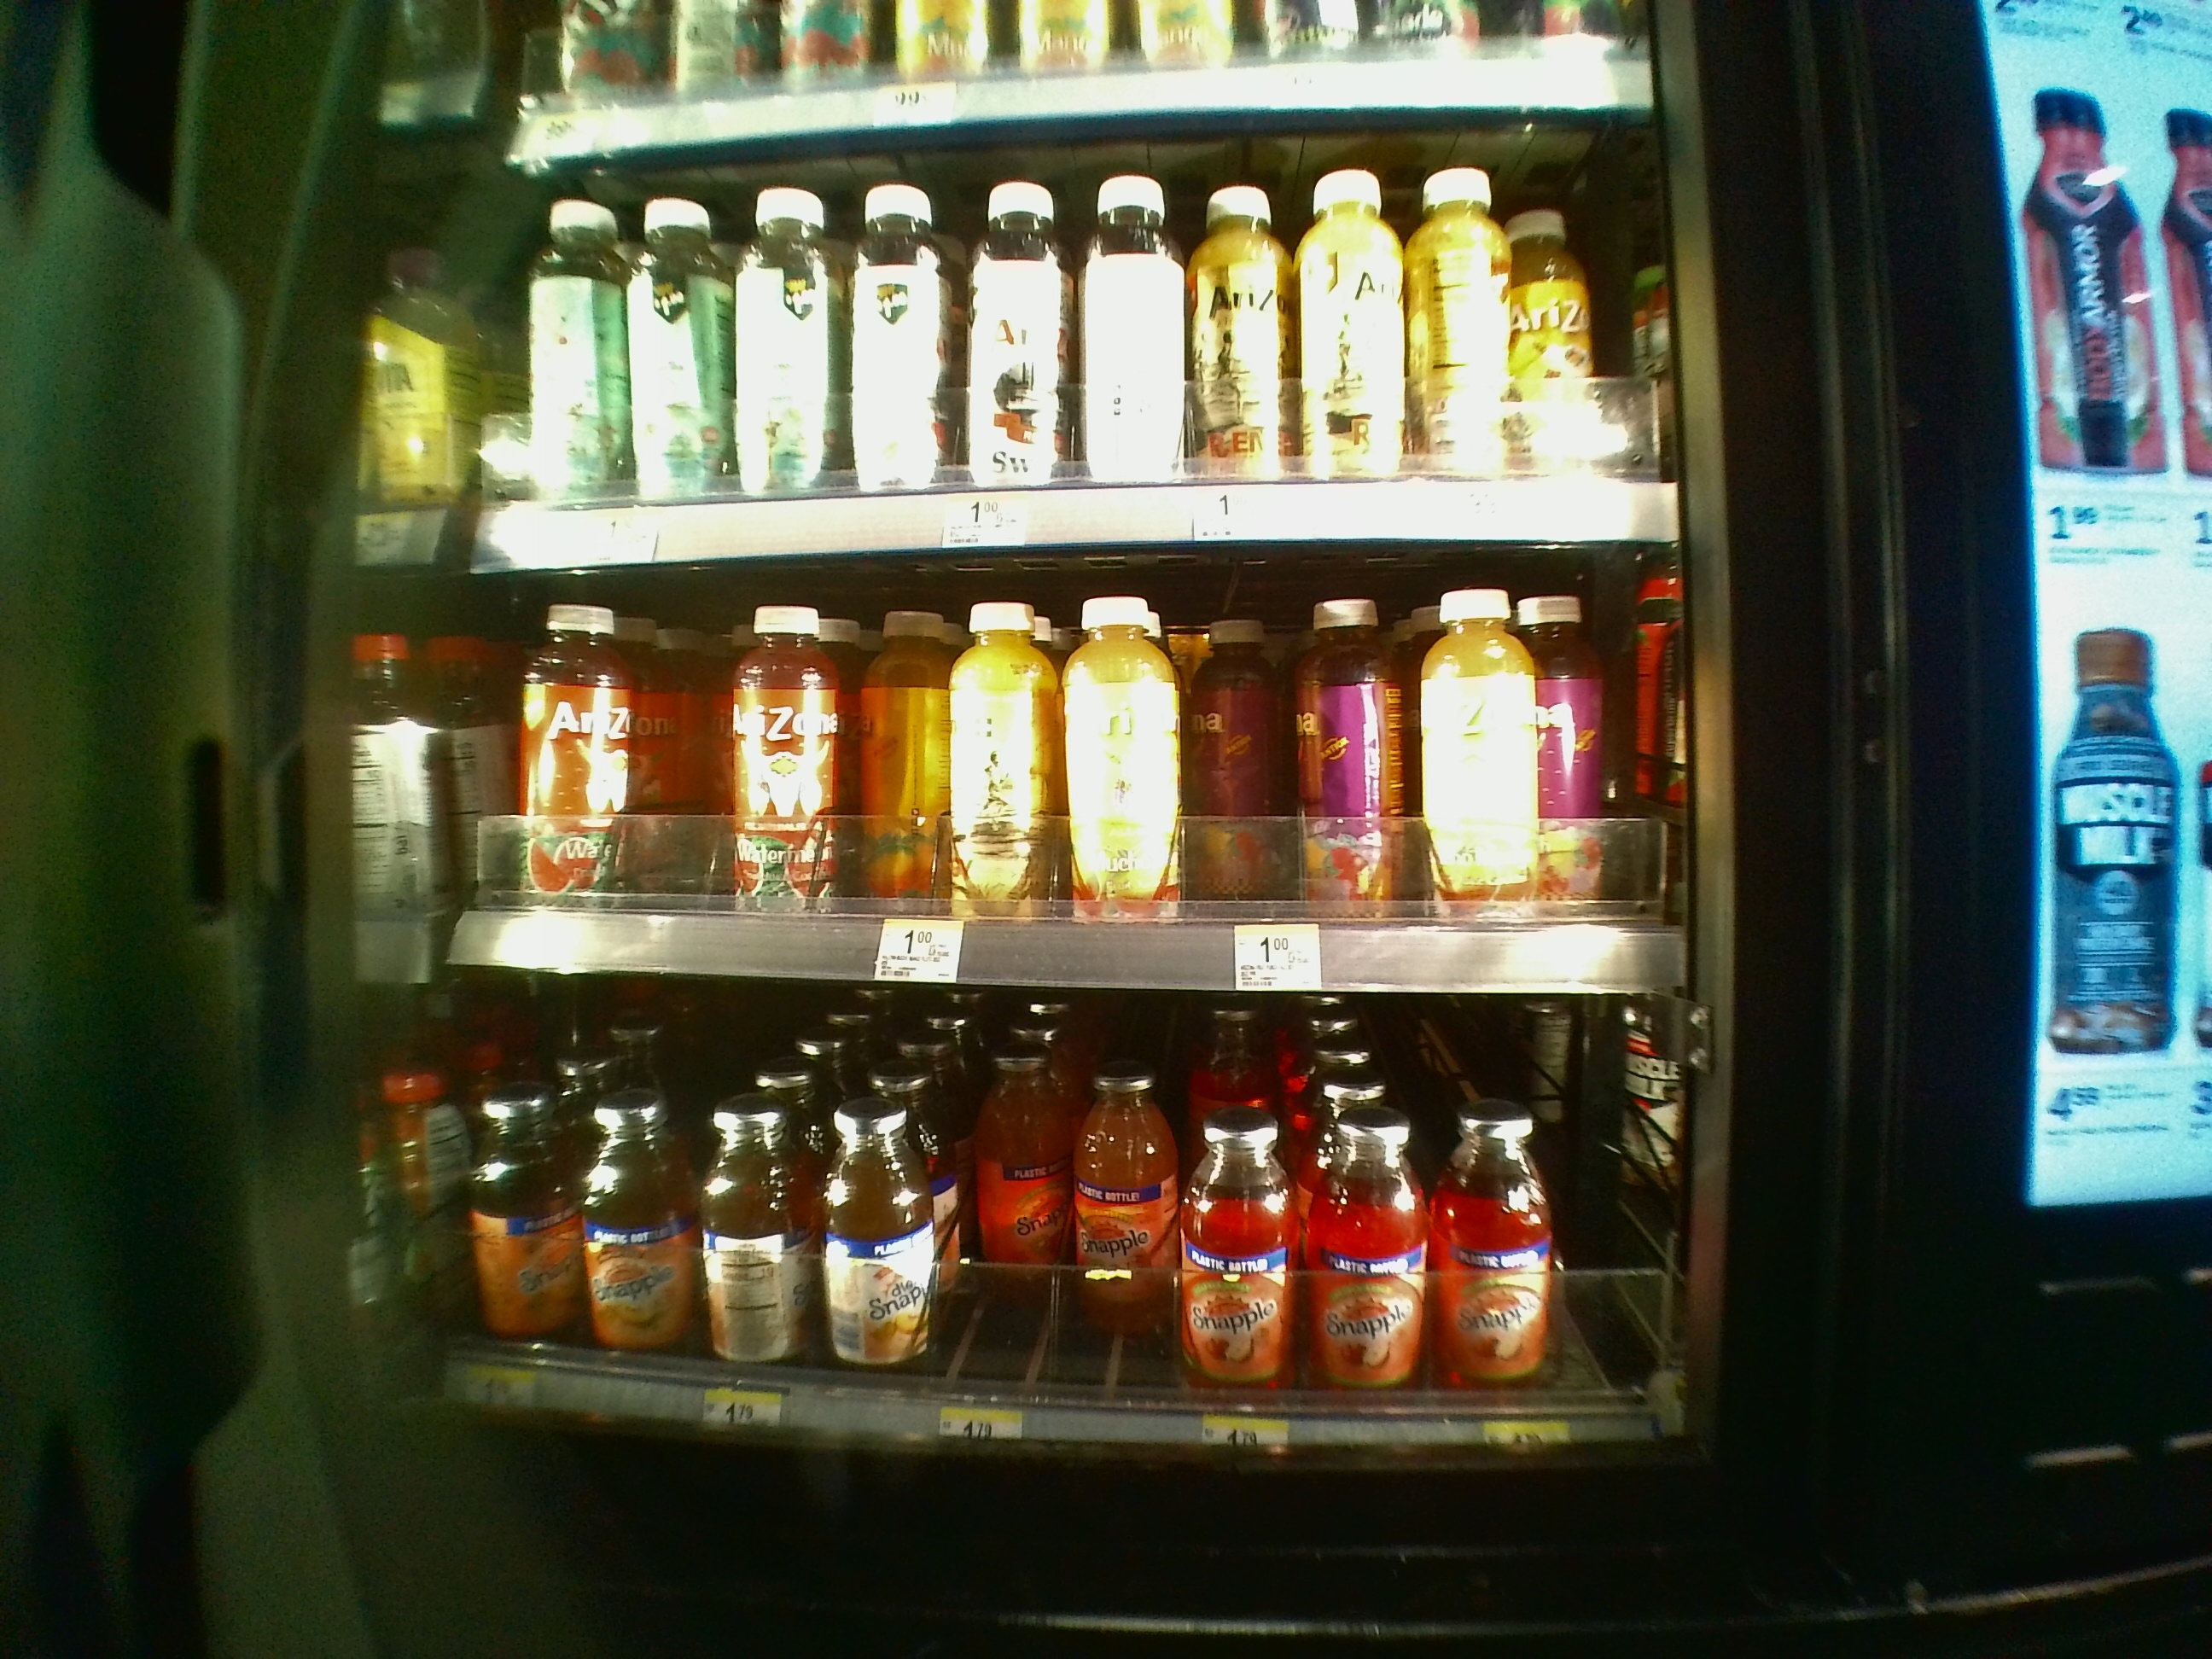shelf: (435, 1000, 1696, 1481), (446, 542, 1686, 990)
